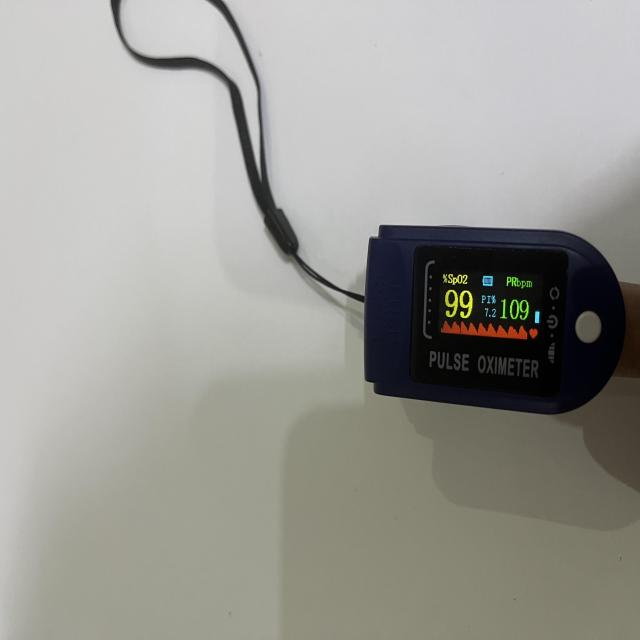spo2: (366, 228, 626, 417)
